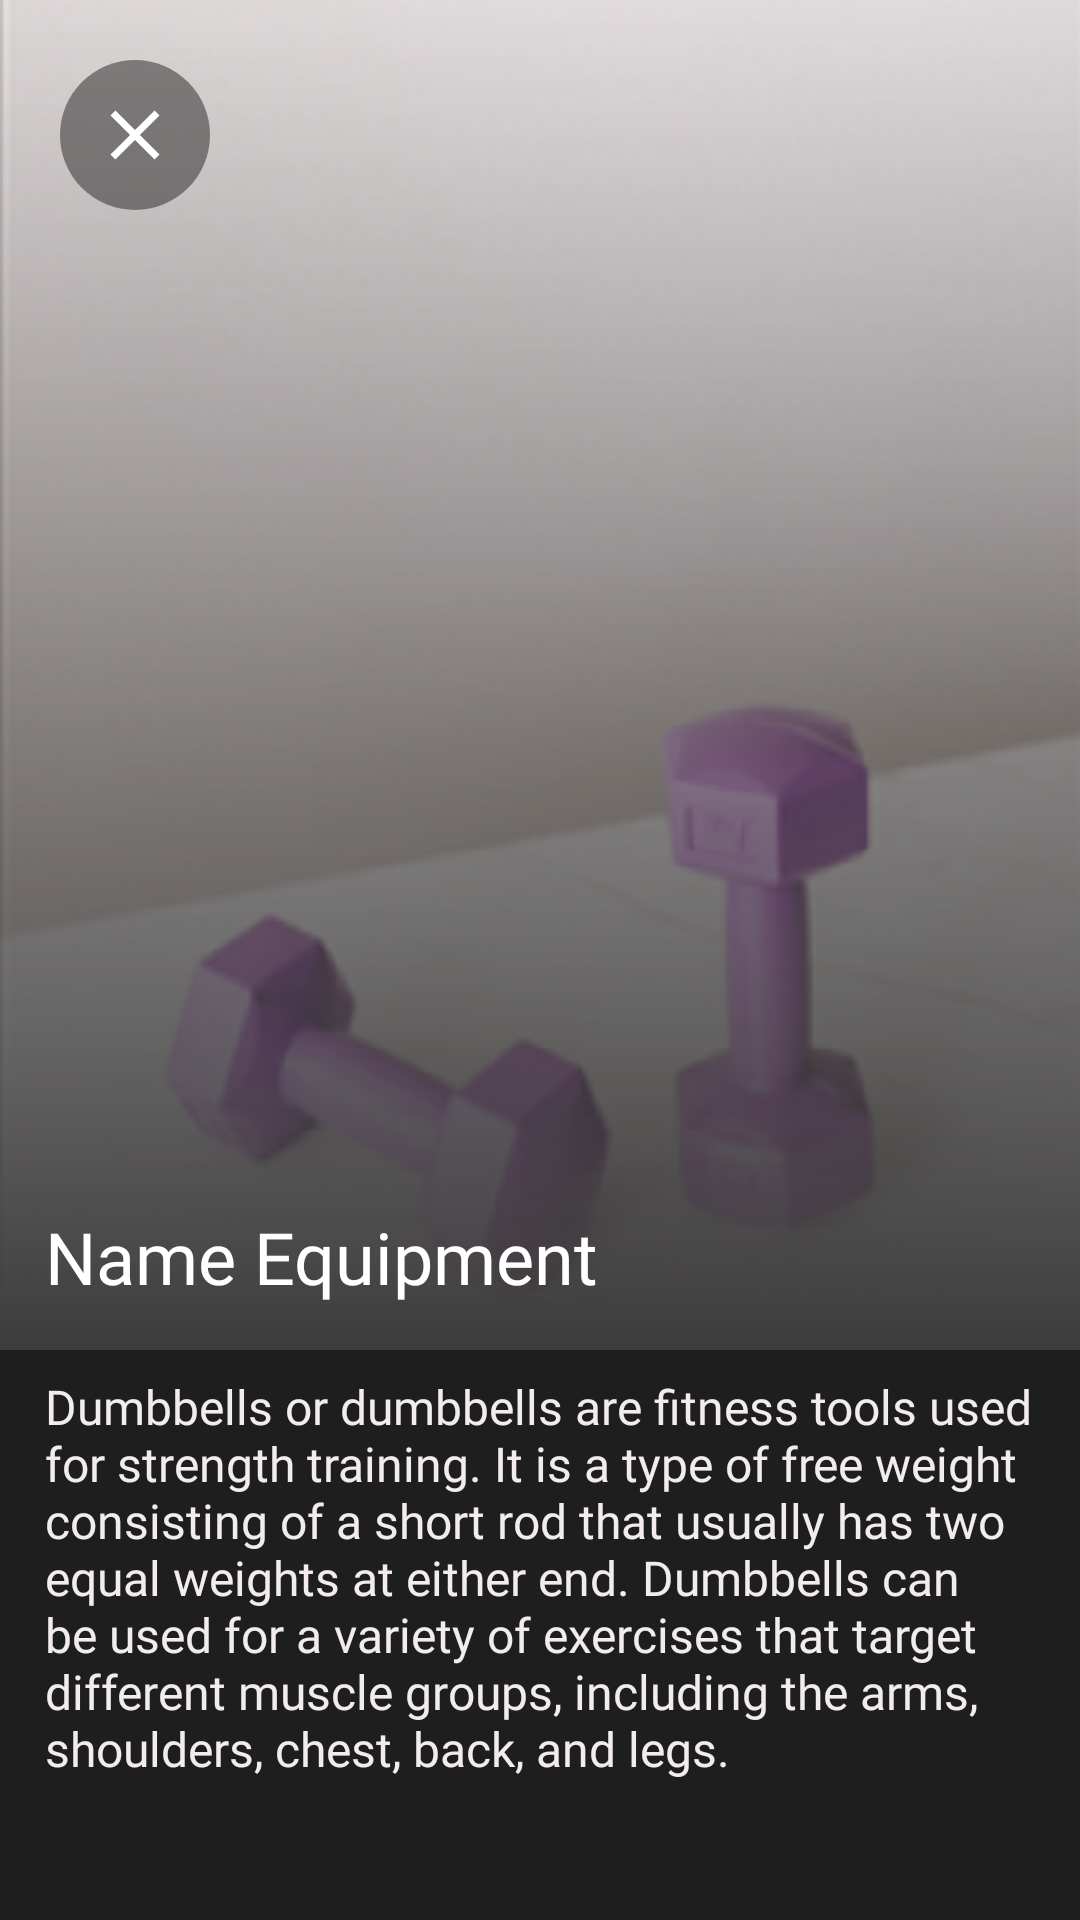

Screen size 1080w x 1920h. Icon name, then its box in pixels as BBox(x1, y1, x2, y2):
close: BBox(60, 60, 210, 210)
